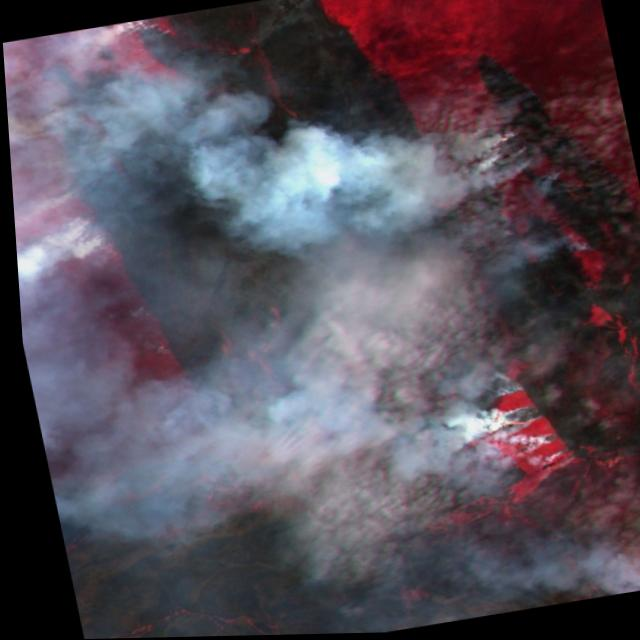fire: (486, 370, 581, 484), (477, 106, 573, 202), (67, 207, 121, 268), (558, 234, 602, 264), (119, 16, 171, 41)
